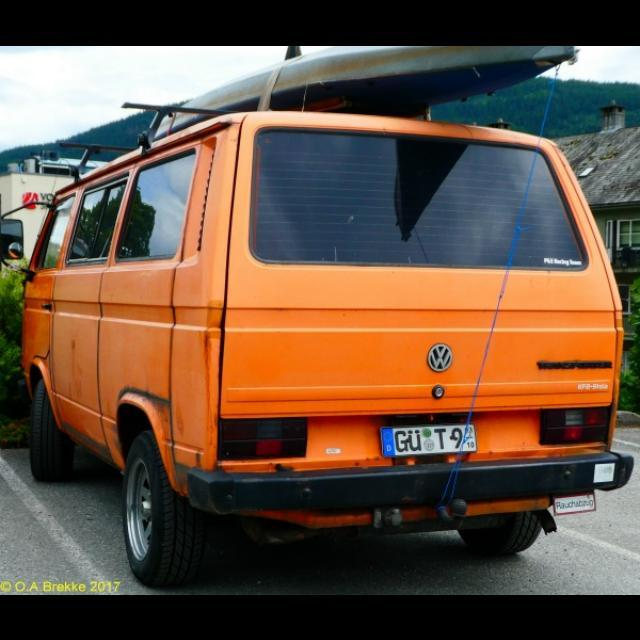license-plates: (381, 425, 476, 458)
